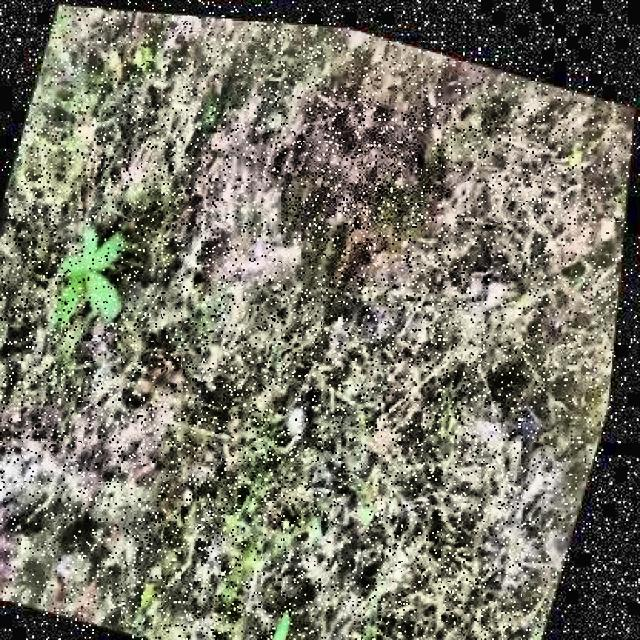Weeds: (47, 214, 145, 338)
